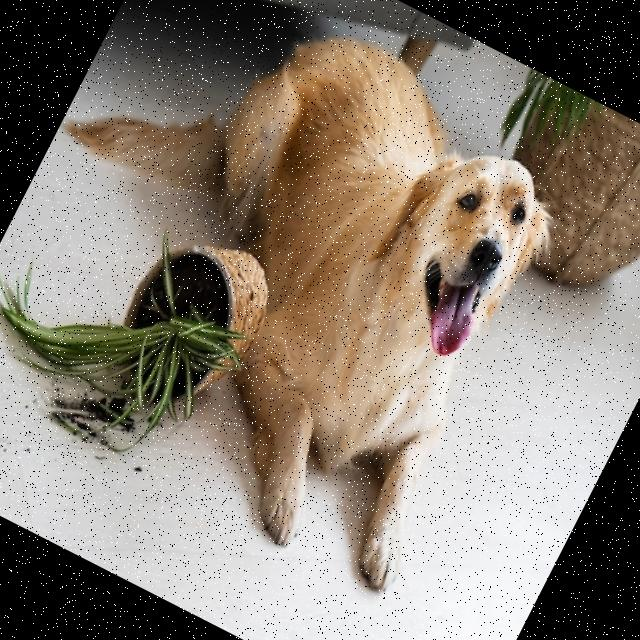Dog: (0, 0, 613, 603)
